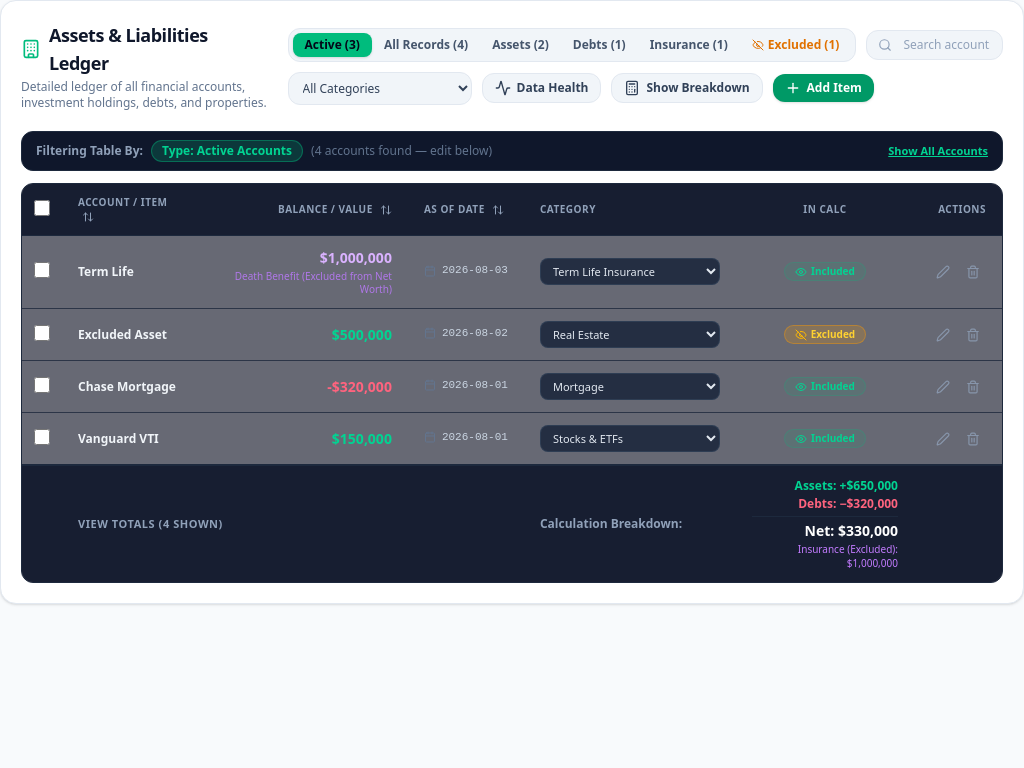
AssetsLiabilitiesLedger › renders correctly and filters items by text search
This screenshot has width=1024, height=768.
Expected: the text "Vanguard VTI" is shown, [78, 431, 159, 447]
Expected: the text "Chase Mortgage" is shown, [78, 379, 176, 395]
// Test Search input with placeholder 'Search accounts...'
Type "Vanguard" into the field with placeholder "Search accounts..." at x=935, y=44, box [866, 30, 1003, 60]
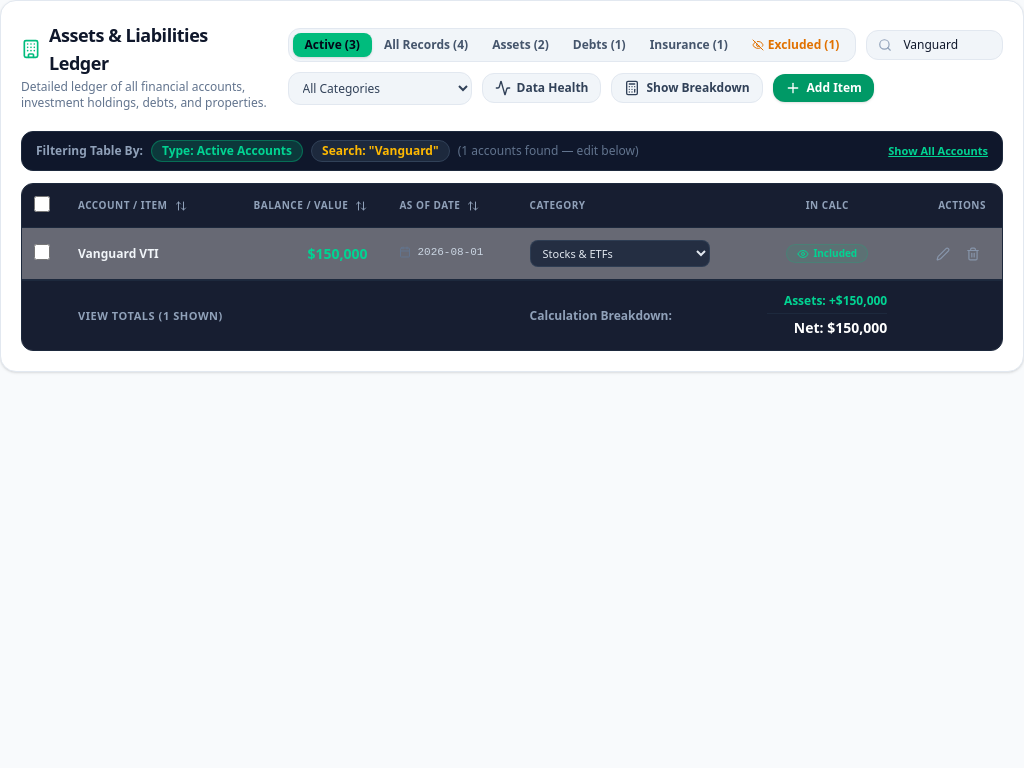
Expected: the text "Vanguard VTI" is shown, [78, 246, 159, 262]
Expected: the text "Chase Mortgage" is gone
